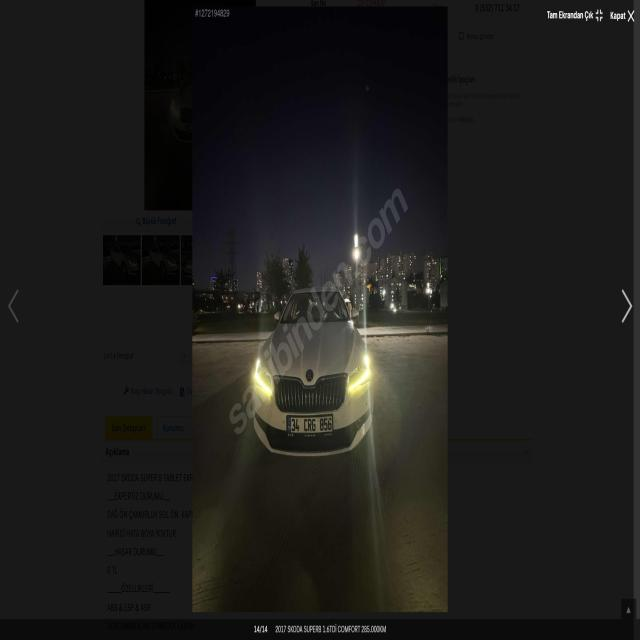skoda: (300, 358, 320, 390)
